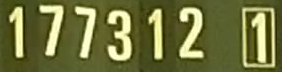one: (251, 14, 270, 64), (149, 9, 165, 61), (9, 8, 25, 59)
seven: (40, 5, 65, 57), (75, 8, 97, 59)
three: (105, 11, 135, 62)
two: (181, 7, 208, 60)
